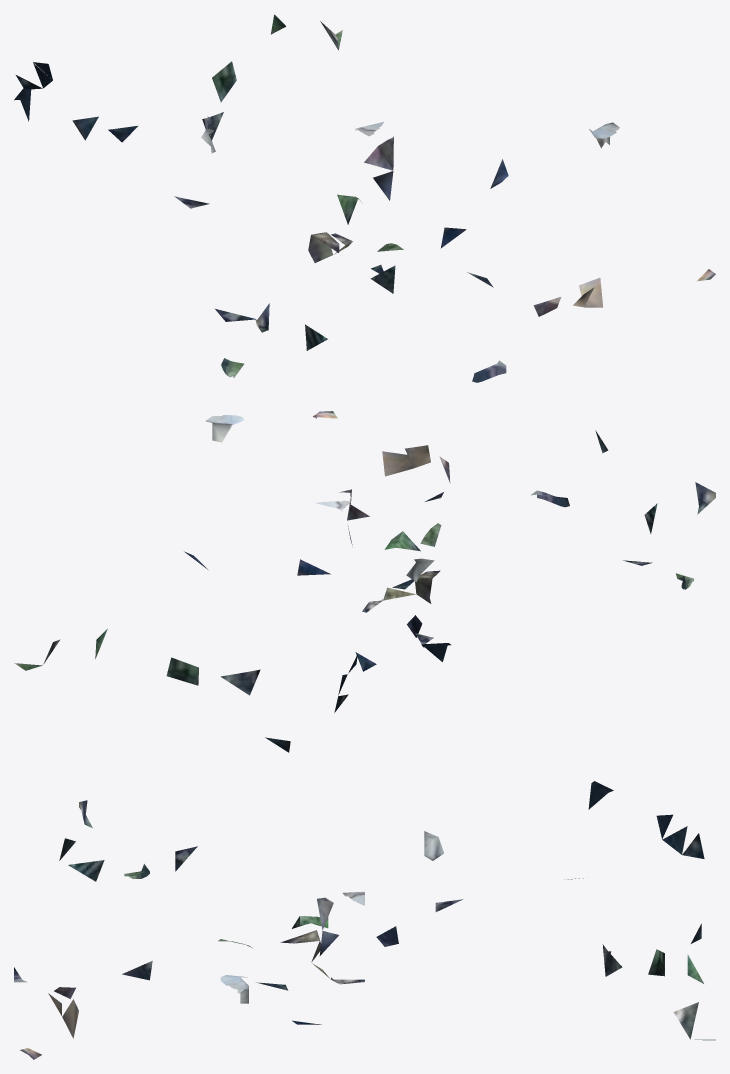
3 renders of one model, top to bottom at view 1: azimuth 30°, elevation 25°; view 2: azimuth 150°, elevation 25°; view 3: azimuth 270°, elevation 25°, orthographic. The views are drawn at different scales.
Visible parts, largest first — view 1: 30436272704361527720_1; view 2: 30436272704361527720_1; view 3: 30436272704361527720_1.
Boxes of the visible parts, <box> form: 30436272704361527720_1: <box>14,14,715,382</box>; 30436272704361527720_1: <box>14,411,715,752</box>; 30436272704361527720_1: <box>14,781,715,1059</box>.
Bounding box in the file's own units: 27.77 × 6.78 × 38.26.
Materials: 1 (1 with a texture image).
